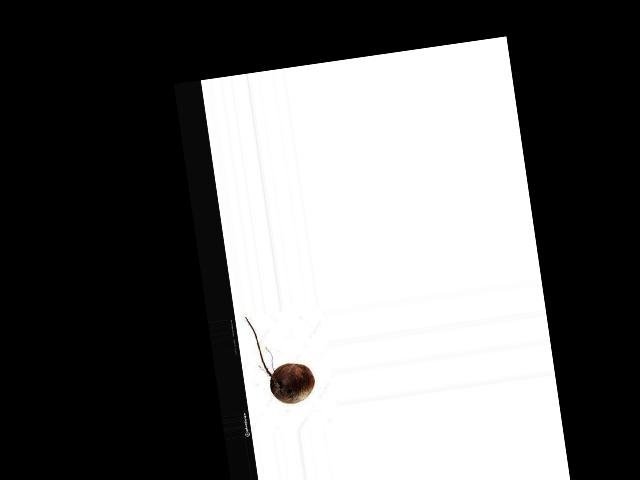beet: (245, 308, 316, 408)
